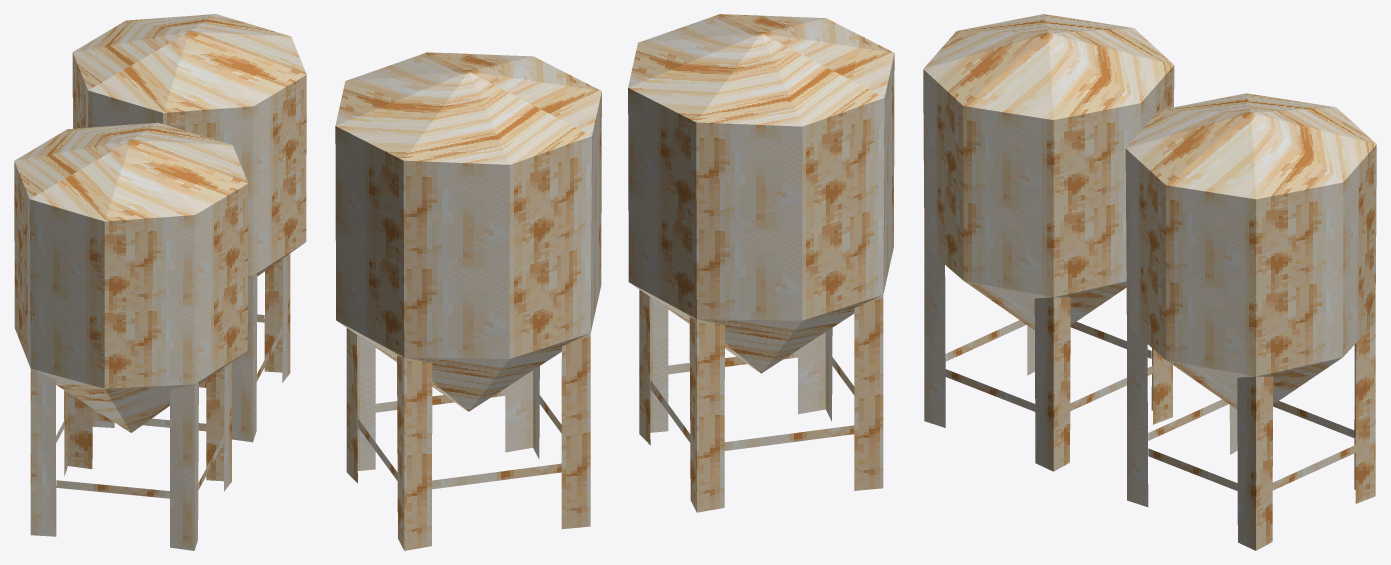
The model's file is lodfacttanks_sfse08.obj.
3 views of the same model, side by side, from view 1: azimuth 30°, elevation 25°; view 2: azimuth 150°, elevation 25°; view 3: azimuth 270°, elevation 25° (orthographic). The views are drawn at different scales.
Visible parts, largest first — view 1: LODfacttanks_SFSe08; view 2: LODfacttanks_SFSe08; view 3: LODfacttanks_SFSe08.
Boxes of the visible parts, <box> form: LODfacttanks_SFSe08: <box>14,14,306,550</box>; LODfacttanks_SFSe08: <box>335,14,894,550</box>; LODfacttanks_SFSe08: <box>923,14,1376,550</box>.
Bounding box in the file's own units: 11.74 × 11.38 × 12.14.
Materials: 1 (1 with a texture image).
